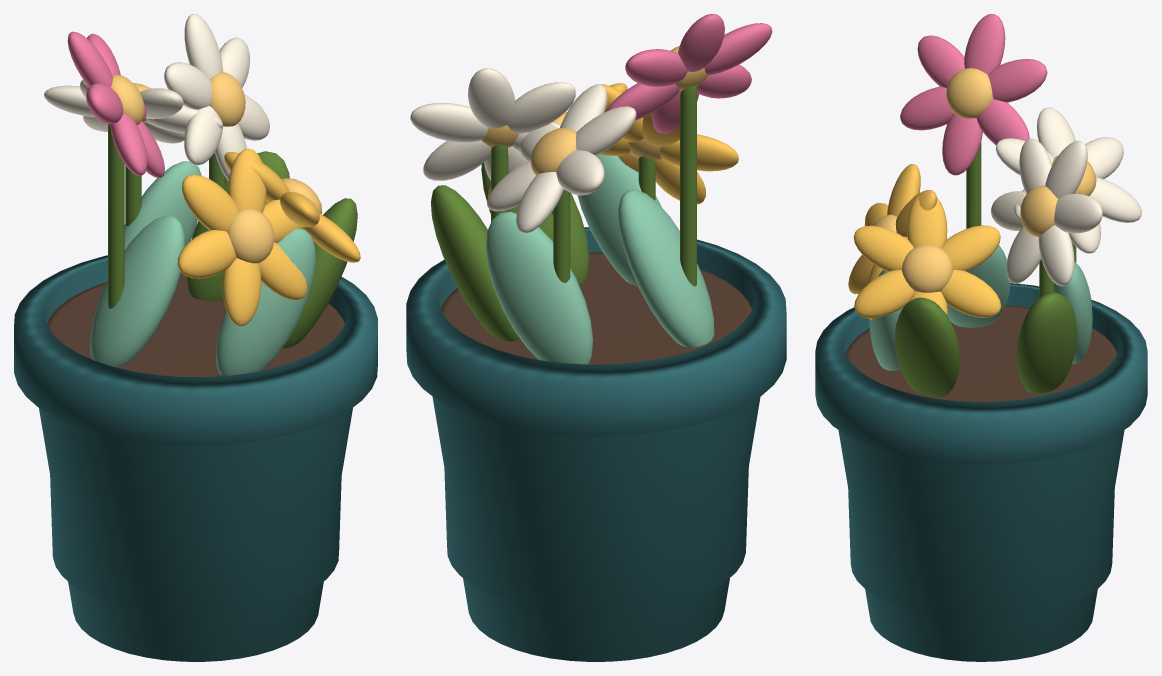
File: flower-planter-yellow.obj
The picture shows the model from 3 angles, left to right: view 1: azimuth 30°, elevation 25°; view 2: azimuth 150°, elevation 25°; view 3: azimuth 270°, elevation 25°; orthographic projection. The views are drawn at different scales.
Visible parts, largest first — view 1: flower-planter-yellow_teal, flower-planter-yellow_mint, flower-planter-yellow_petalYellow, flower-planter-yellow_cream, flower-planter-yellow_cocoa, flower-planter-yellow_leaf, flower-planter-yellow_petalPink, flower-planter-yellow_seed; view 2: flower-planter-yellow_teal, flower-planter-yellow_mint, flower-planter-yellow_cream, flower-planter-yellow_leaf, flower-planter-yellow_cocoa, flower-planter-yellow_petalPink, flower-planter-yellow_petalYellow, flower-planter-yellow_seed; view 3: flower-planter-yellow_teal, flower-planter-yellow_cream, flower-planter-yellow_petalYellow, flower-planter-yellow_leaf, flower-planter-yellow_petalPink, flower-planter-yellow_cocoa, flower-planter-yellow_seed, flower-planter-yellow_mint.
Boxes of the visible parts, x1,y1,x2,y2 form: flower-planter-yellow_teal: (14,255,377,661); flower-planter-yellow_mint: (90,161,315,375); flower-planter-yellow_petalYellow: (177,148,360,326); flower-planter-yellow_cream: (44,14,269,180); flower-planter-yellow_cocoa: (47,272,344,377); flower-planter-yellow_leaf: (108,124,357,348); flower-planter-yellow_petalPink: (67,31,164,177); flower-planter-yellow_seed: (111,72,322,263); flower-planter-yellow_teal: (406,227,786,661); flower-planter-yellow_mint: (486,154,714,364); flower-planter-yellow_cream: (410,68,636,233); flower-planter-yellow_leaf: (431,85,696,341); flower-planter-yellow_cocoa: (441,252,751,364); flower-planter-yellow_petalPink: (606,14,772,133); flower-planter-yellow_petalYellow: (487,83,738,204); flower-planter-yellow_seed: (481,46,707,175); flower-planter-yellow_teal: (815,283,1147,661); flower-planter-yellow_cream: (991,107,1141,286); flower-planter-yellow_petalYellow: (848,164,1001,319); flower-planter-yellow_leaf: (895,142,1077,397); flower-planter-yellow_petalPink: (900,14,1047,175); flower-planter-yellow_cocoa: (845,305,1117,401); flower-planter-yellow_seed: (873,68,1096,292); flower-planter-yellow_mint: (869,245,1092,370).
Bounding box in the file's own units: 0.356 × 0.6477 × 0.356.
